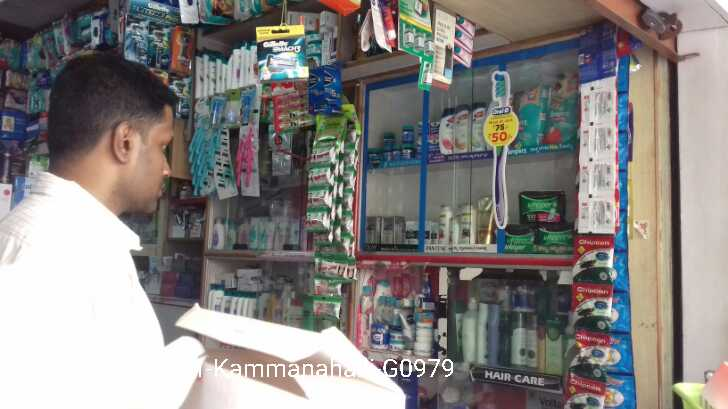vicks: (366, 124, 417, 164)
